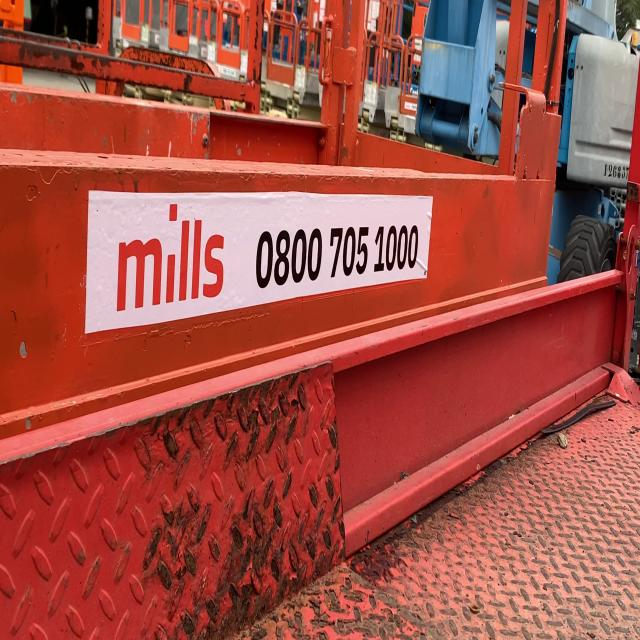Adesivo Longo: (78, 175, 444, 348)
